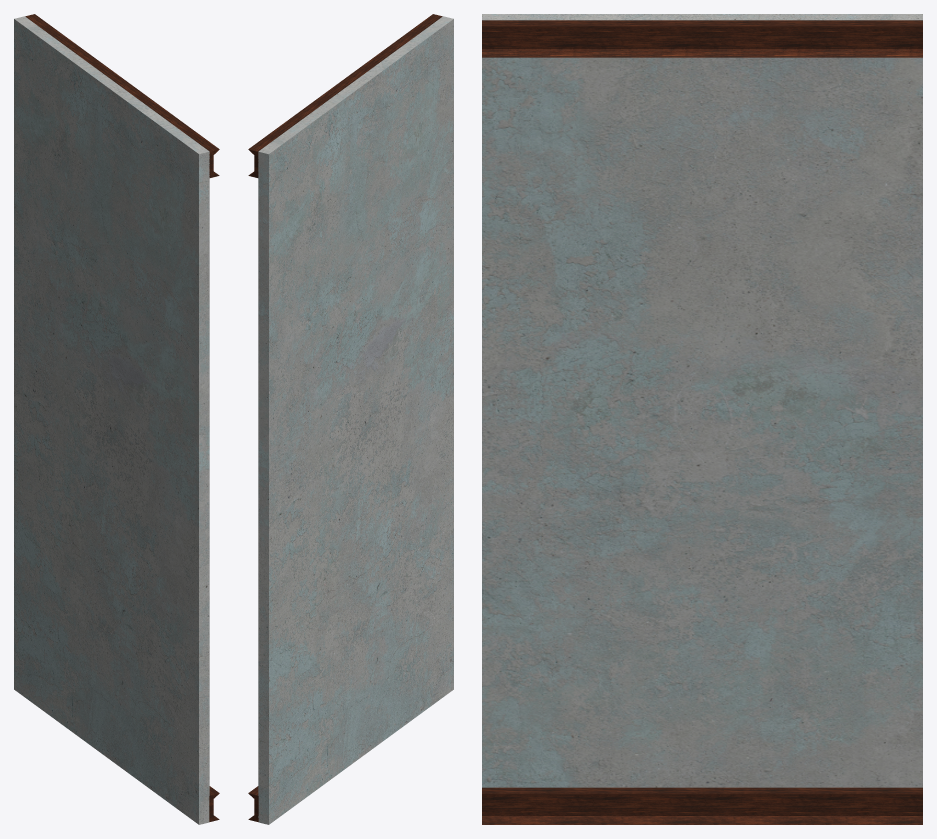
The model's file is blueWall.glb.
3 renders of one model, left to right at view 1: azimuth 30°, elevation 25°; view 2: azimuth 150°, elevation 25°; view 3: azimuth 270°, elevation 25°, orthographic. The views are drawn at different scales.
Parts seen in each view (by area): view 1: Cube.001, Cube.003; view 2: Cube.001, Cube.003; view 3: Cube.001, Cube.002, Cube.003.
Part boxes in pixels (left/top/right/bottom): Cube.001: left=14, top=16, right=209, bottom=824; Cube.003: left=25, top=14, right=219, bottom=177; Cube.001: left=258, top=16, right=453, bottom=824; Cube.003: left=248, top=14, right=442, bottom=177; Cube.001: left=482, top=14, right=922, bottom=787; Cube.002: left=482, top=787, right=922, bottom=824; Cube.003: left=482, top=20, right=922, bottom=57.
Bounding box in the file's own units: 0.1946 × 6 × 3.
Materials: 2 (2 with a texture image).
